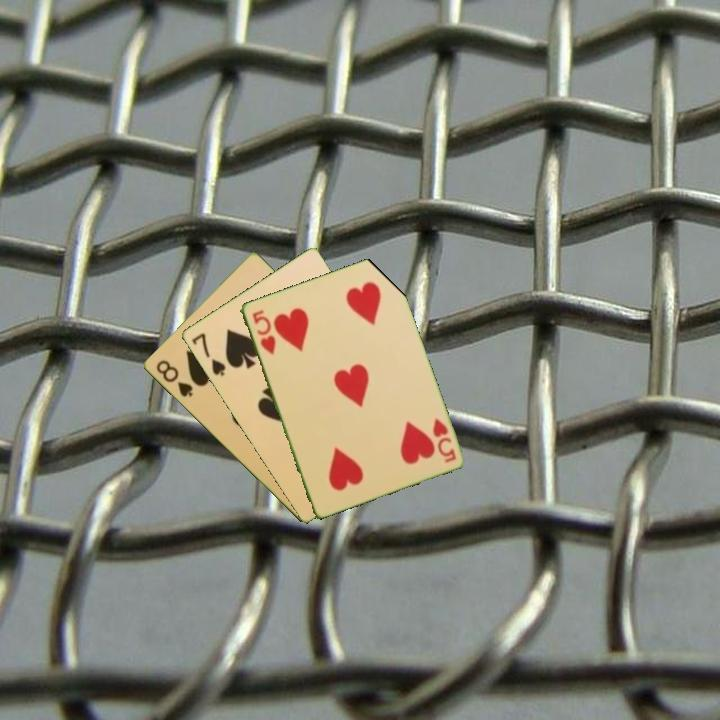5h: (248, 306, 278, 357), (429, 414, 458, 465)
7s: (188, 329, 228, 379)
8s: (152, 356, 195, 400)
